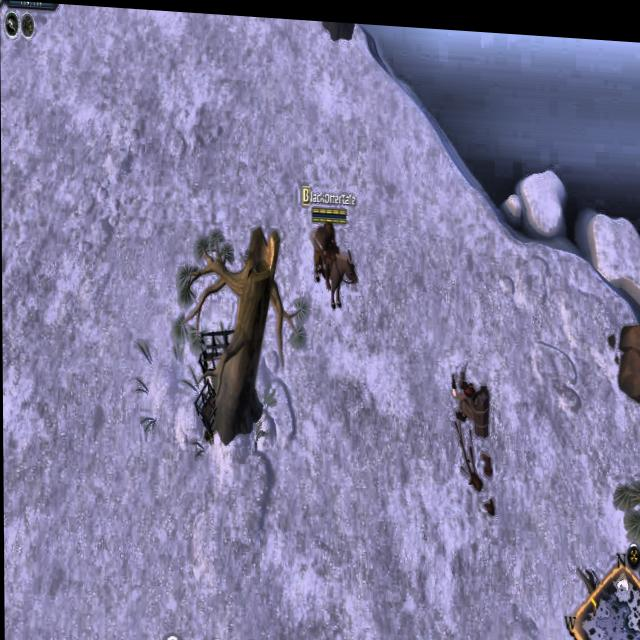limestone: (614, 305, 640, 396)
